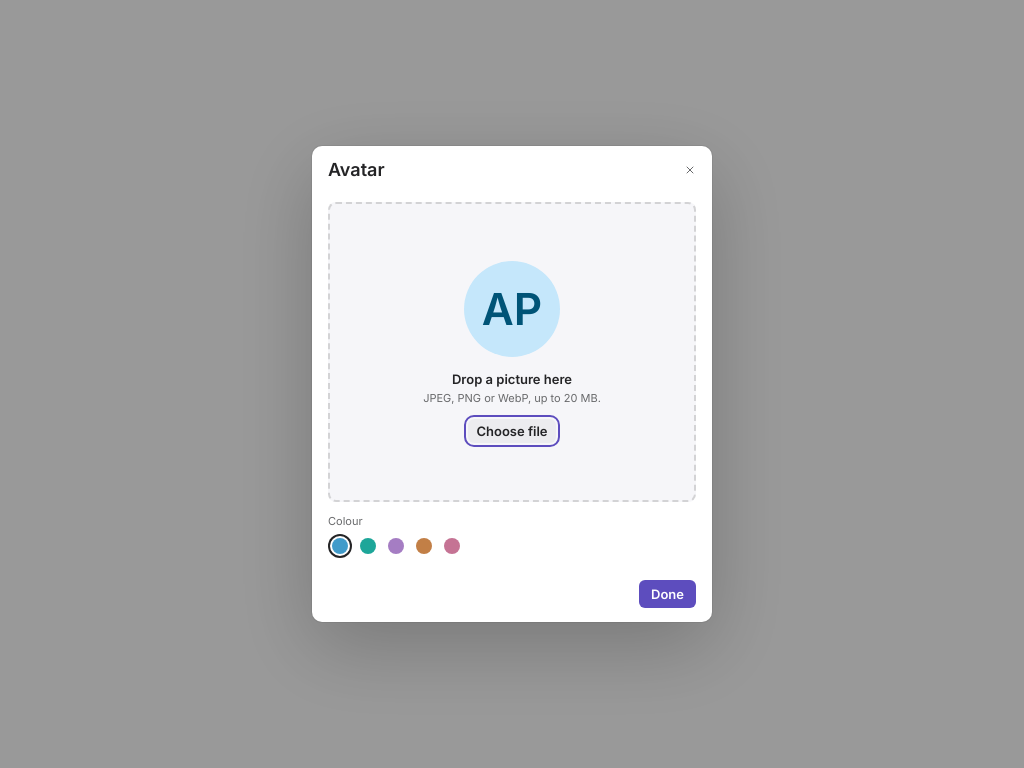
a refused colour says why
What coordinates should you click on to do the following:
click the radio button named "Tangerine"
I would click on:
 (424, 546)
Its box is [412,534,436,558].
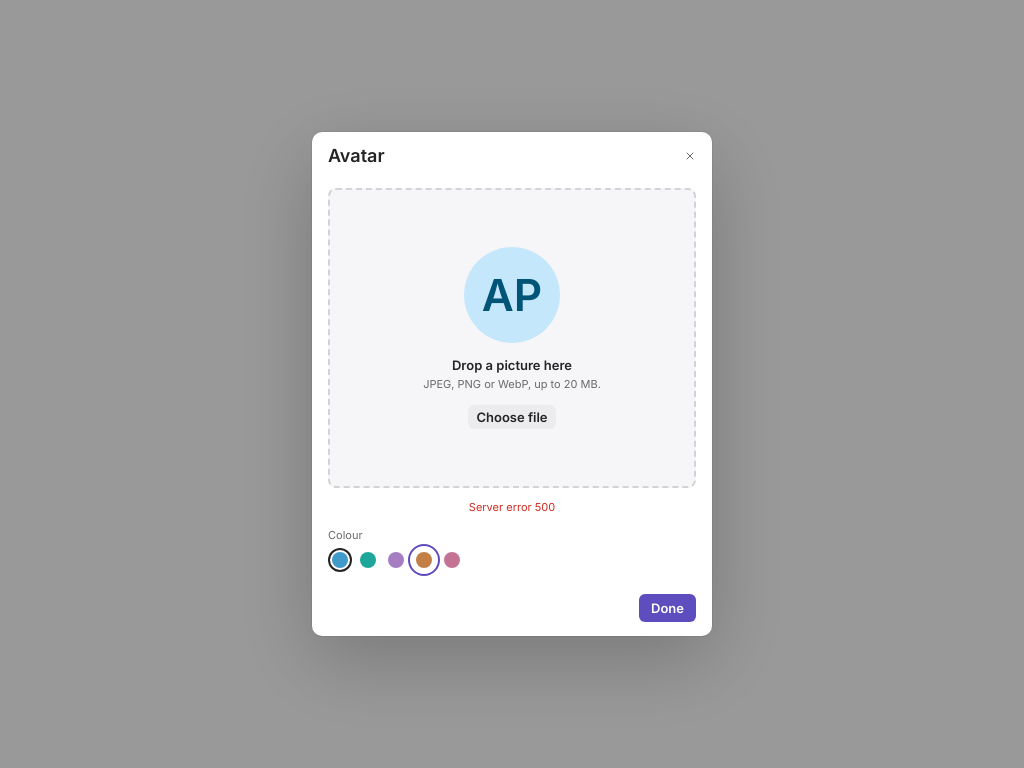
Check: the text "Server error 500" is shown, box [469,500,555,516]
